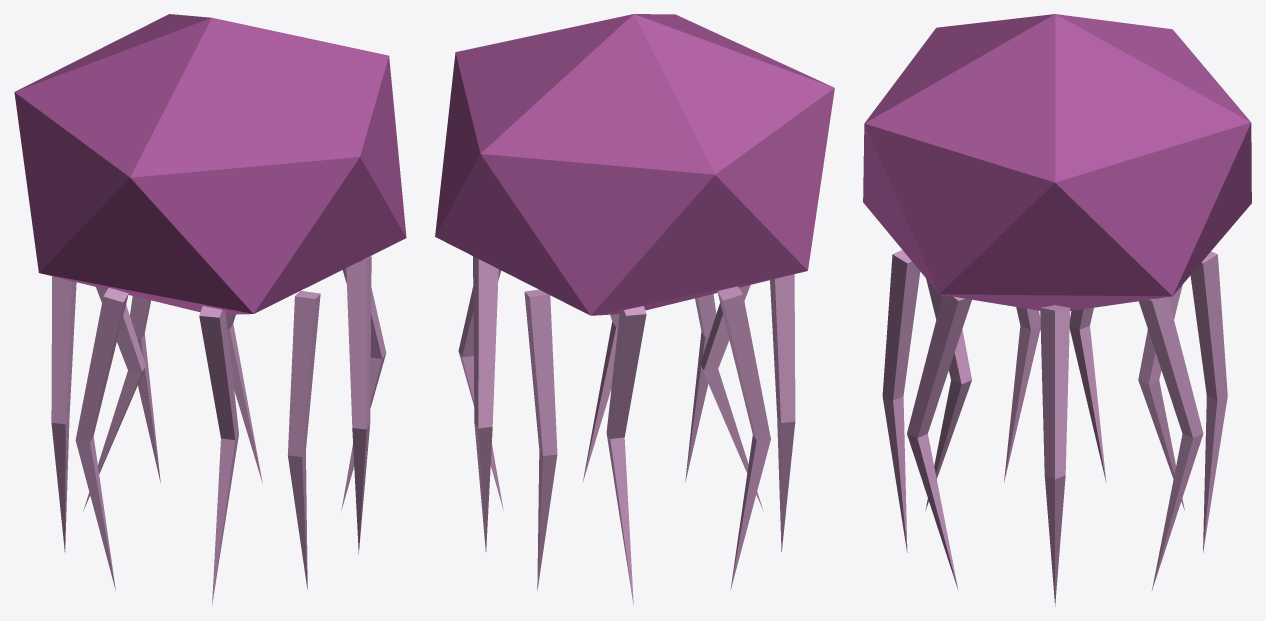
Rendered from beast_jellyfish.glb.
3 renders of one model, left to right at view 1: azimuth 30°, elevation 25°; view 2: azimuth 150°, elevation 25°; view 3: azimuth 270°, elevation 25°, orthographic.
Visible parts, largest first — view 1: beast_jellyfish; view 2: beast_jellyfish; view 3: beast_jellyfish.
Boxes of the visible parts, box(x1,y1,x2,y2) form: beast_jellyfish: box(14, 14, 406, 605); beast_jellyfish: box(435, 14, 834, 604); beast_jellyfish: box(863, 14, 1251, 606).
Bounding box in the file's own units: 1.36 × 1.95 × 1.3.
